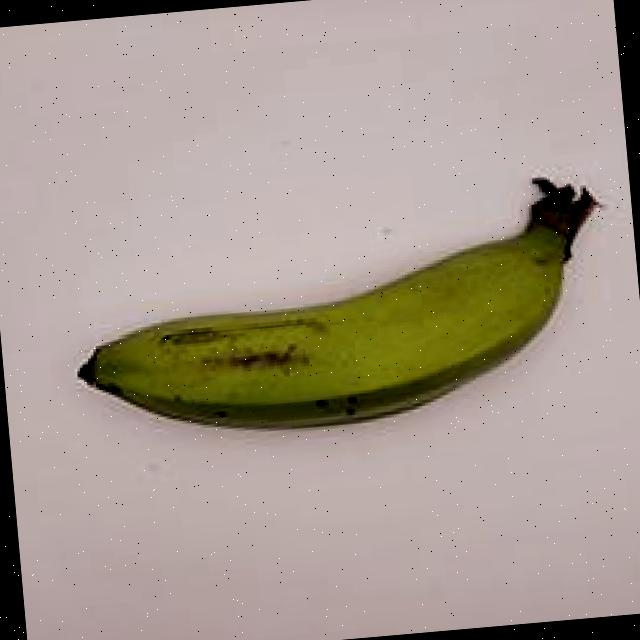Raw: (39, 139, 626, 484)
